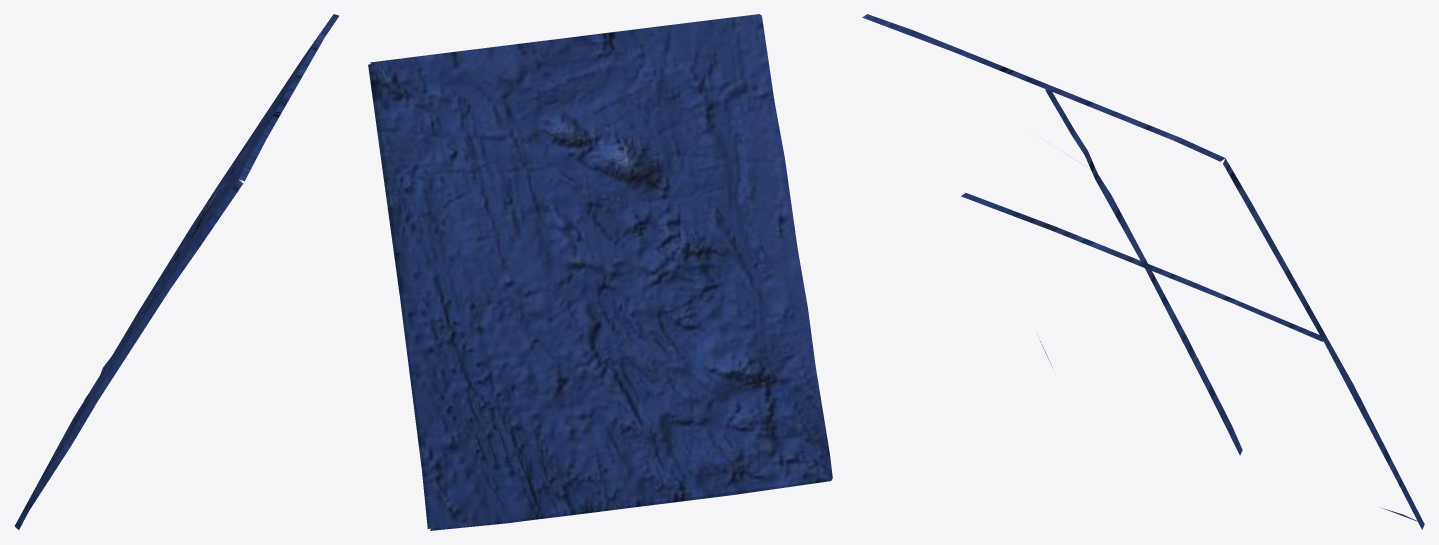
3 renders of one model, left to right at view 1: azimuth 30°, elevation 25°; view 2: azimuth 150°, elevation 25°; view 3: azimuth 270°, elevation 25°, orthographic. The views are drawn at different scales.
Size of the model in its own units: 303710 by 276190 by 307811.
Materials: 1 (1 with a texture image).
